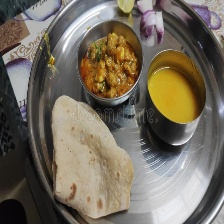sabzi: (79, 30, 141, 99)
